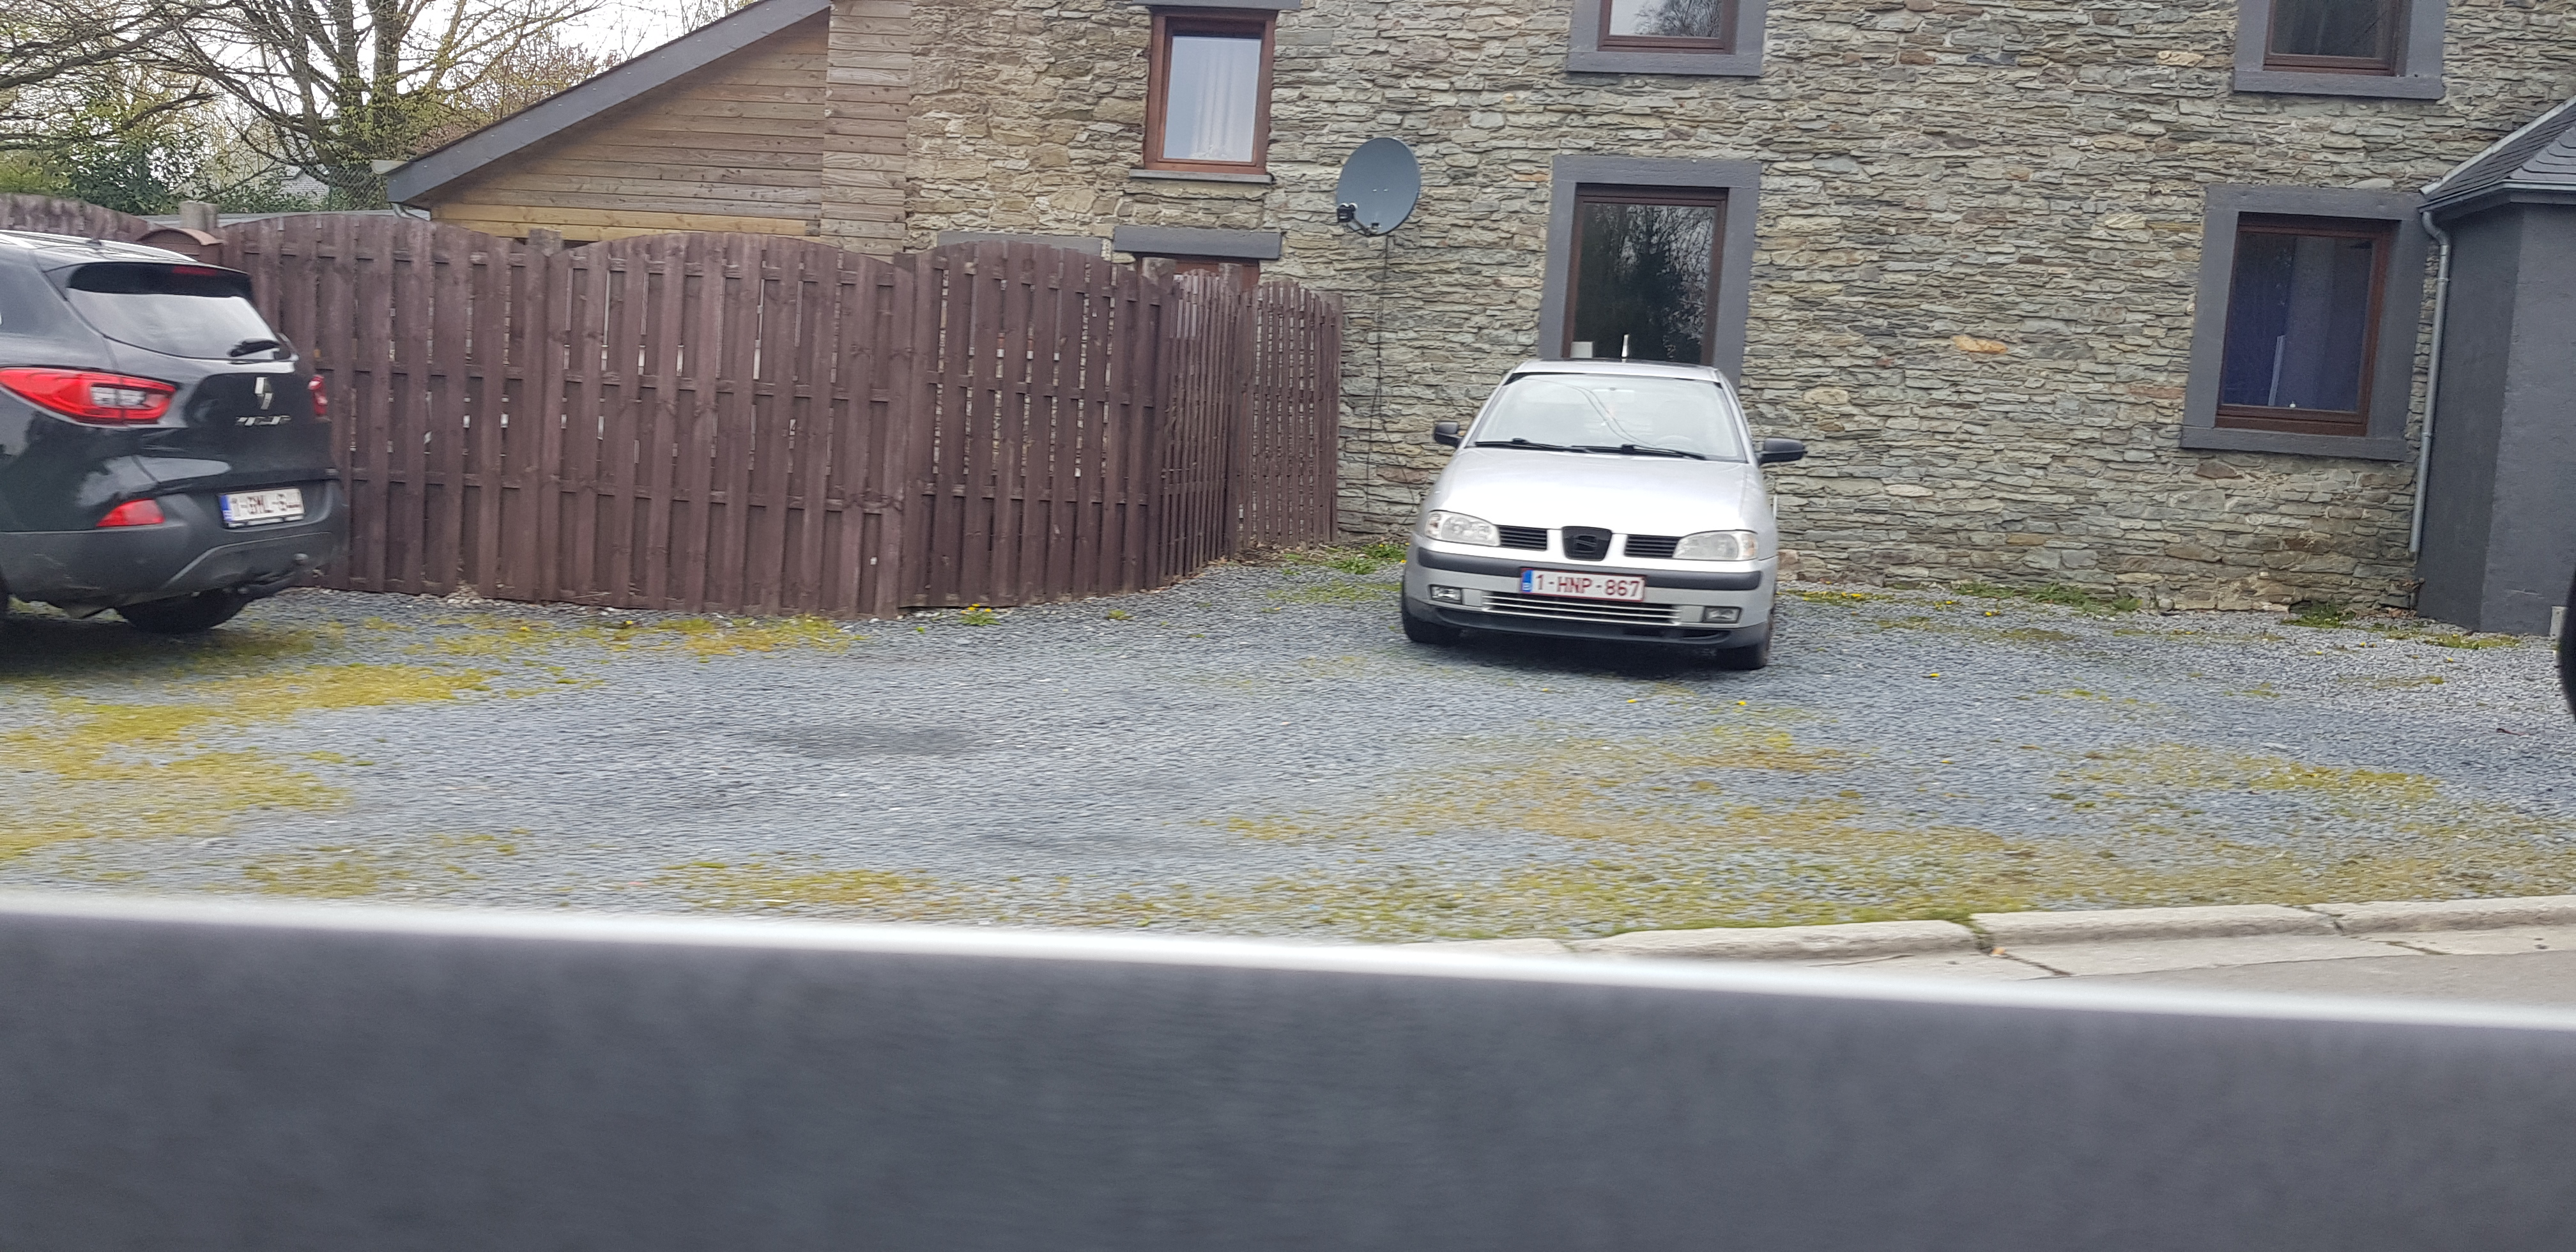licenceplate: (1518, 565, 1647, 604)
